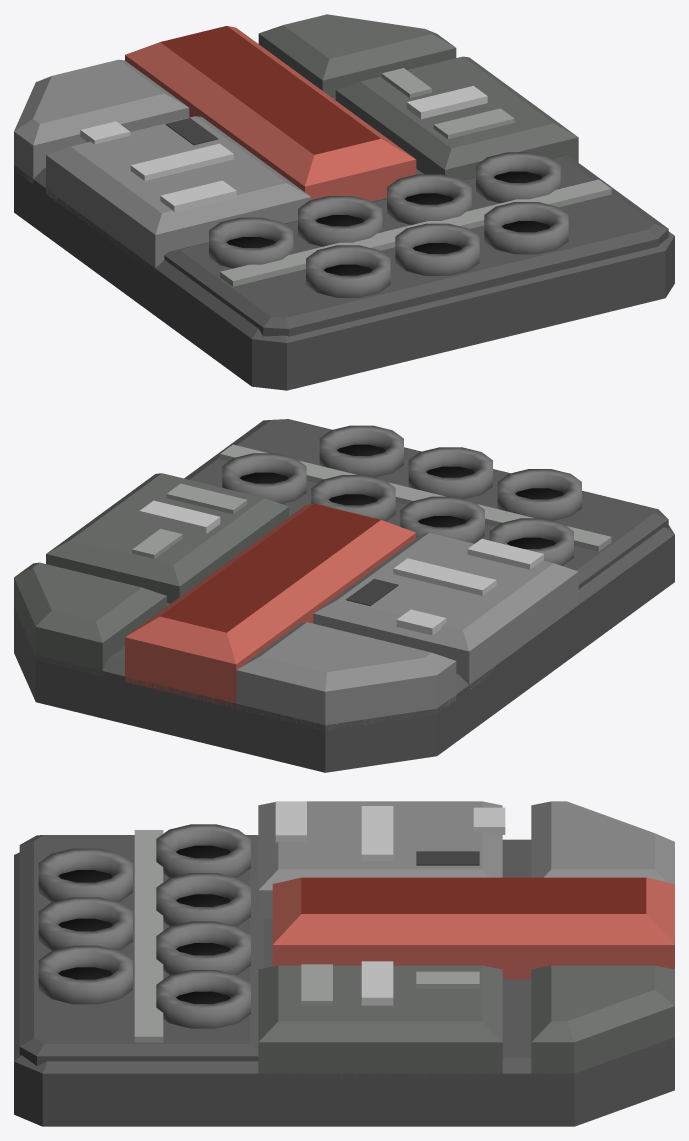
Rendered from newshs-267.glb.
3 renders of one model, top to bottom at view 1: azimuth 30°, elevation 25°; view 2: azimuth 150°, elevation 25°; view 3: azimuth 270°, elevation 25°, orthographic. The views are drawn at different scales.
Parts seen in each view (by area): view 1: newshs-267; view 2: newshs-267; view 3: newshs-267.
Boxes of the visible parts, <box> form: newshs-267: <box>14,14,674,390</box>; newshs-267: <box>14,419,674,772</box>; newshs-267: <box>14,801,674,1126</box>.
Size of the model in its own units: 1.58 by 0.37 by 1.92.
